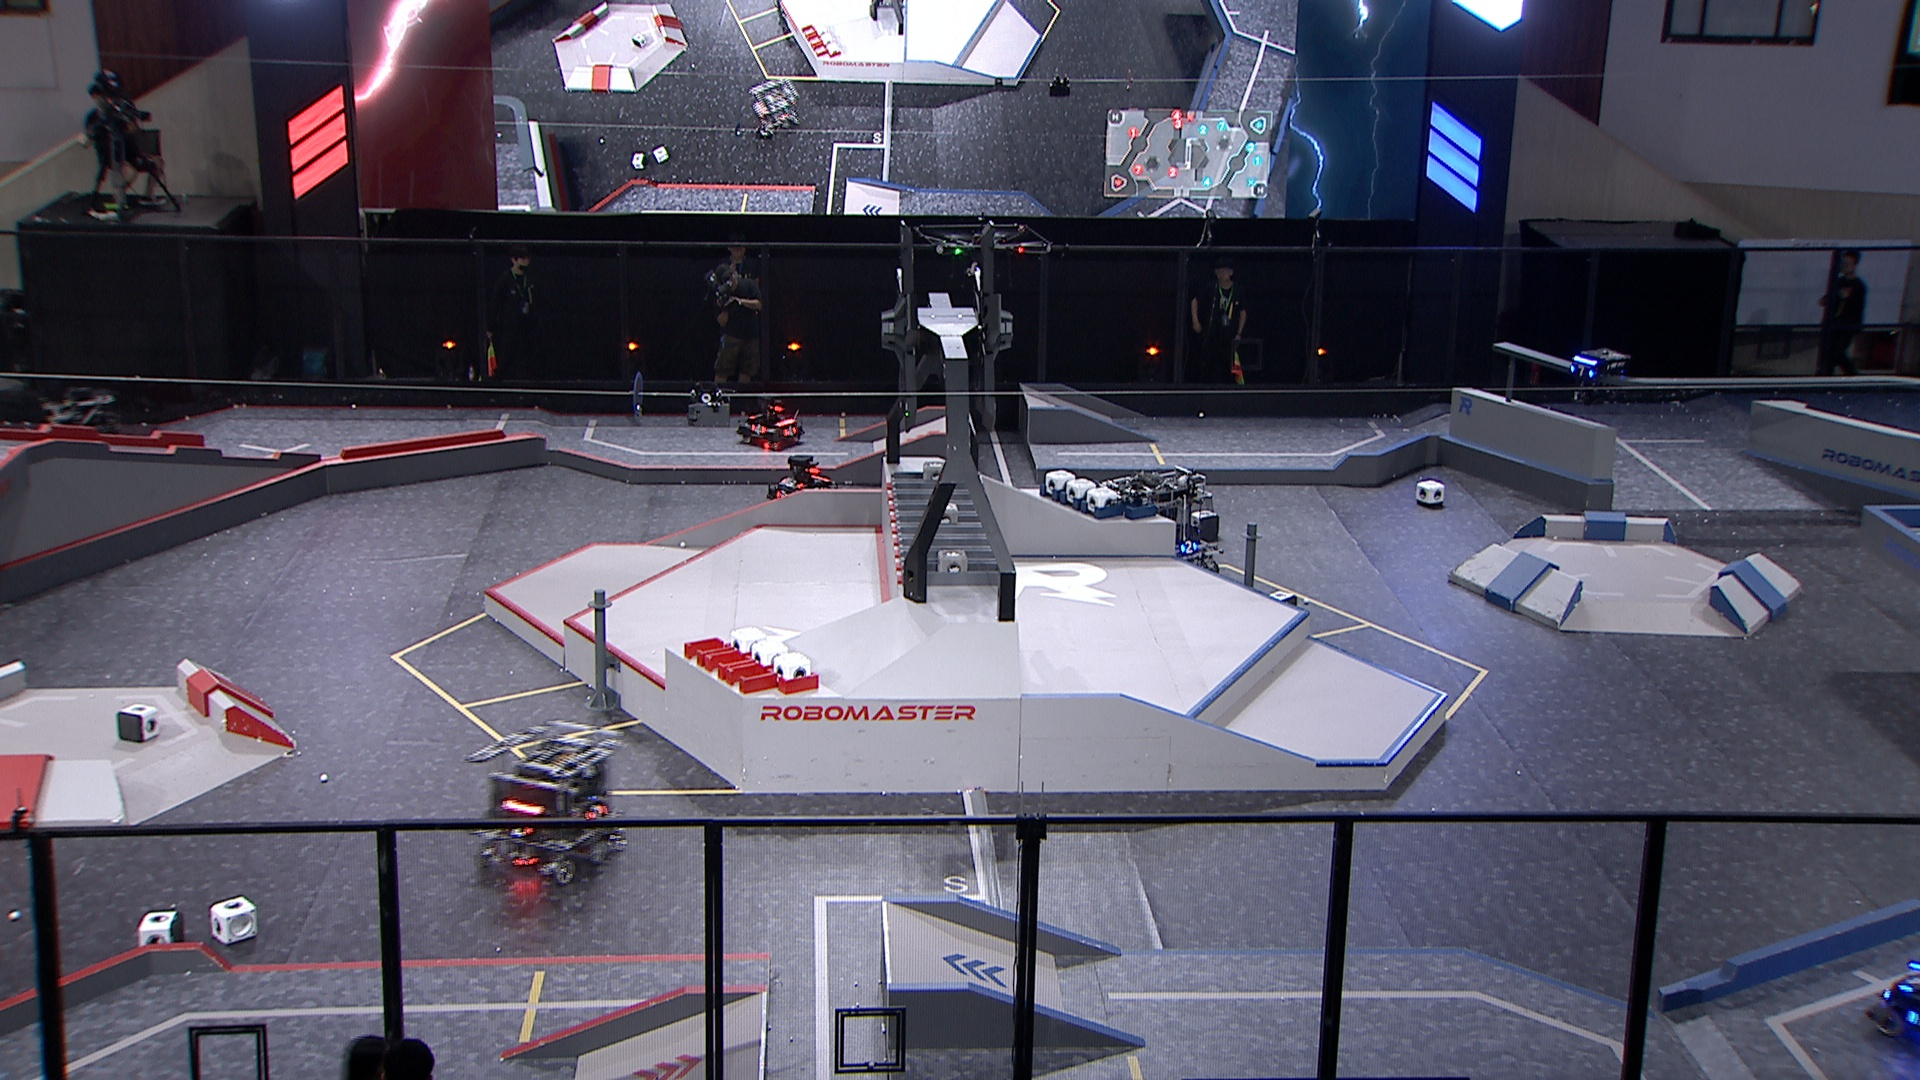armor: (502, 814, 535, 837), (1898, 959, 1920, 992), (584, 799, 611, 825), (1567, 363, 1600, 381), (1178, 535, 1201, 556), (779, 475, 807, 491), (746, 422, 766, 436), (782, 423, 800, 438)
car: (462, 723, 629, 887), (1105, 465, 1221, 579), (40, 386, 131, 476), (1863, 936, 1920, 1044), (733, 396, 808, 456), (765, 451, 837, 513)
ignore: (749, 80, 808, 138)
watcher: (1567, 345, 1631, 409)
